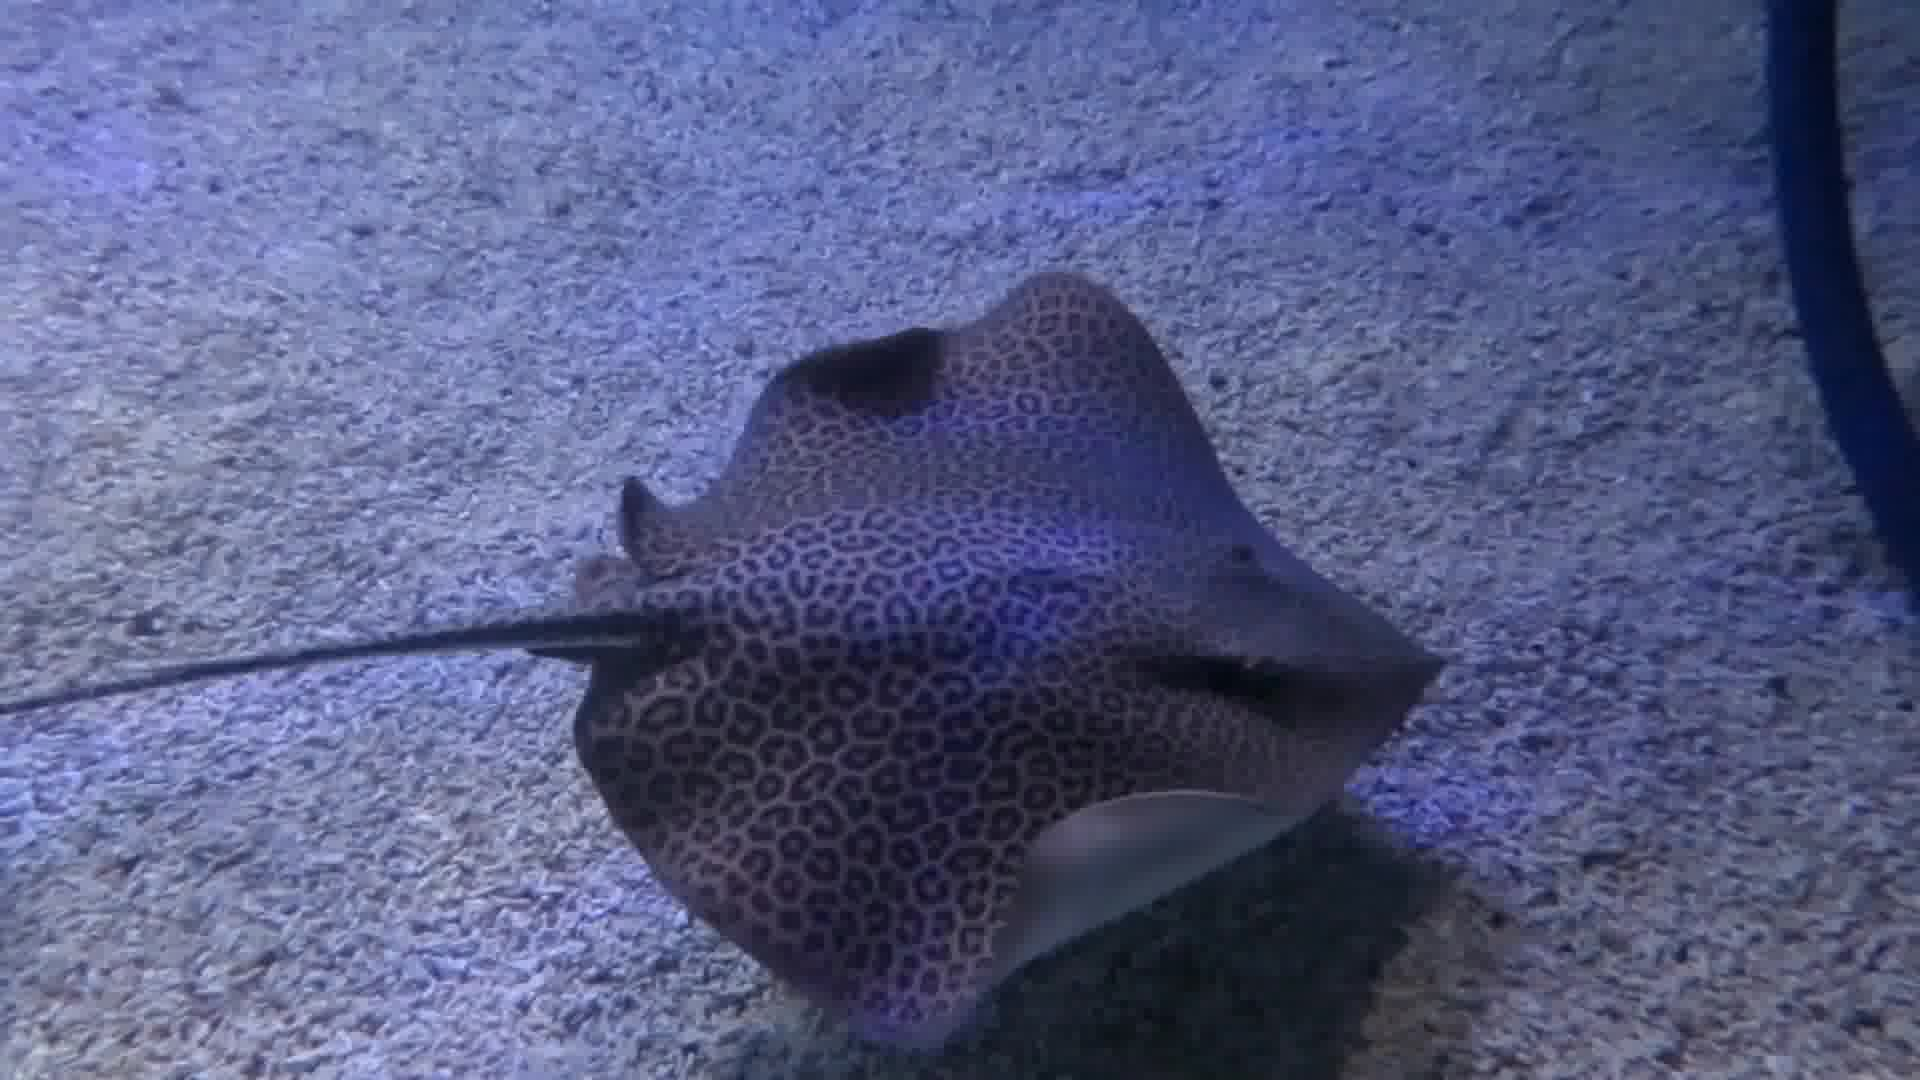Himantura uarnak: (436, 255, 1469, 1080)
